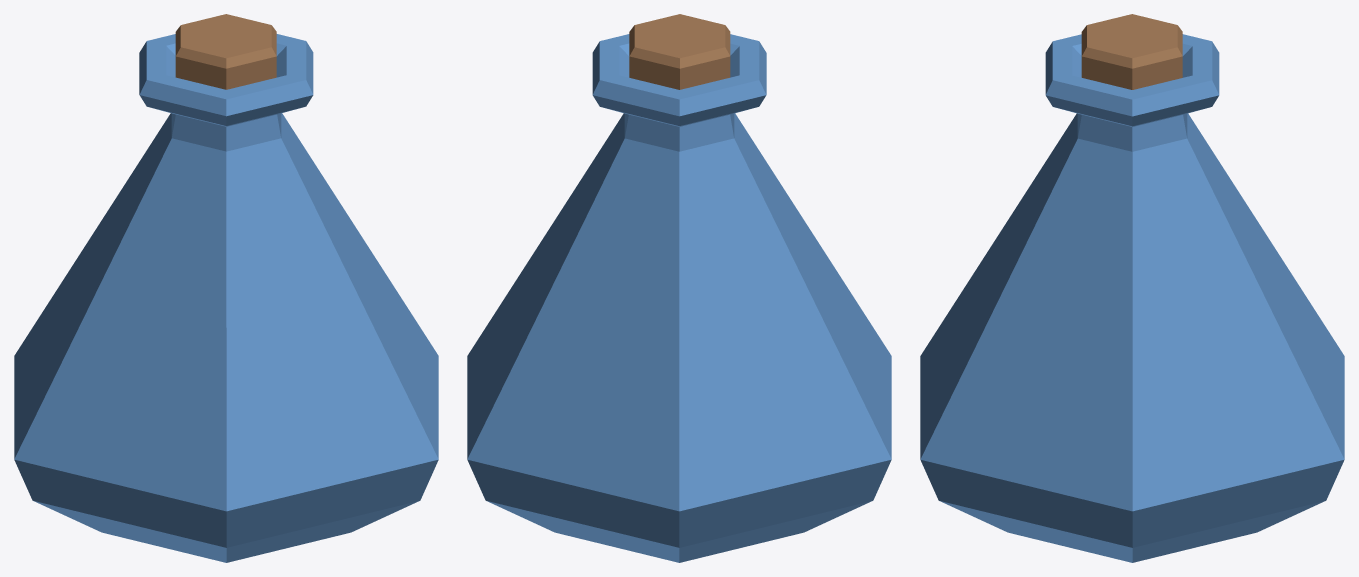
The model's file is Blue_Potion_6.fbx.
The picture shows the model from 3 angles, left to right: view 1: azimuth 30°, elevation 25°; view 2: azimuth 150°, elevation 25°; view 3: azimuth 270°, elevation 25°; orthographic projection.
Parts seen in each view (by area): view 1: Blue_Potion_6; view 2: Blue_Potion_6; view 3: Blue_Potion_6.
Boxes of the visible parts, bbox=[...] form: Blue_Potion_6: bbox=[14, 14, 438, 562]; Blue_Potion_6: bbox=[467, 14, 891, 562]; Blue_Potion_6: bbox=[920, 14, 1344, 562].
Bounding box in the file's own units: 20.22 × 21.21 × 17.51.
